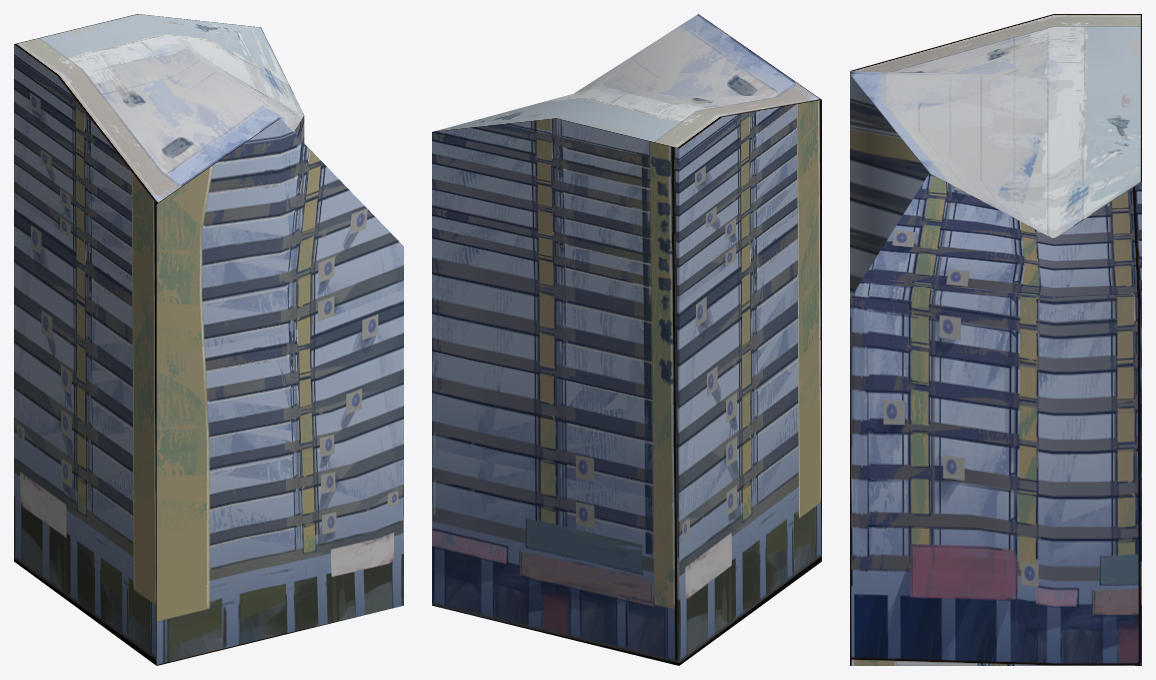
The model's file is bg_building_des.fbx.
The picture shows the model from 3 angles, left to right: view 1: azimuth 30°, elevation 25°; view 2: azimuth 150°, elevation 25°; view 3: azimuth 270°, elevation 25°; orthographic projection. The views are drawn at different scales.
Parts seen in each view (by area): view 1: Cube; view 2: Cube; view 3: Cube.
Boxes of the visible parts, left/top/right/bottom form: Cube: left=14, top=14, right=403, bottom=665; Cube: left=432, top=14, right=821, bottom=665; Cube: left=850, top=14, right=1141, bottom=665.
Size of the model in its own units: 2 by 4 by 2.
